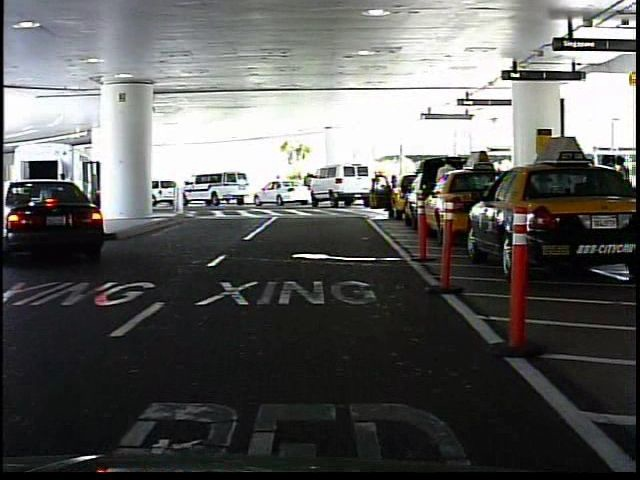person: (434, 156, 460, 228), (270, 172, 286, 203), (302, 171, 316, 202)
